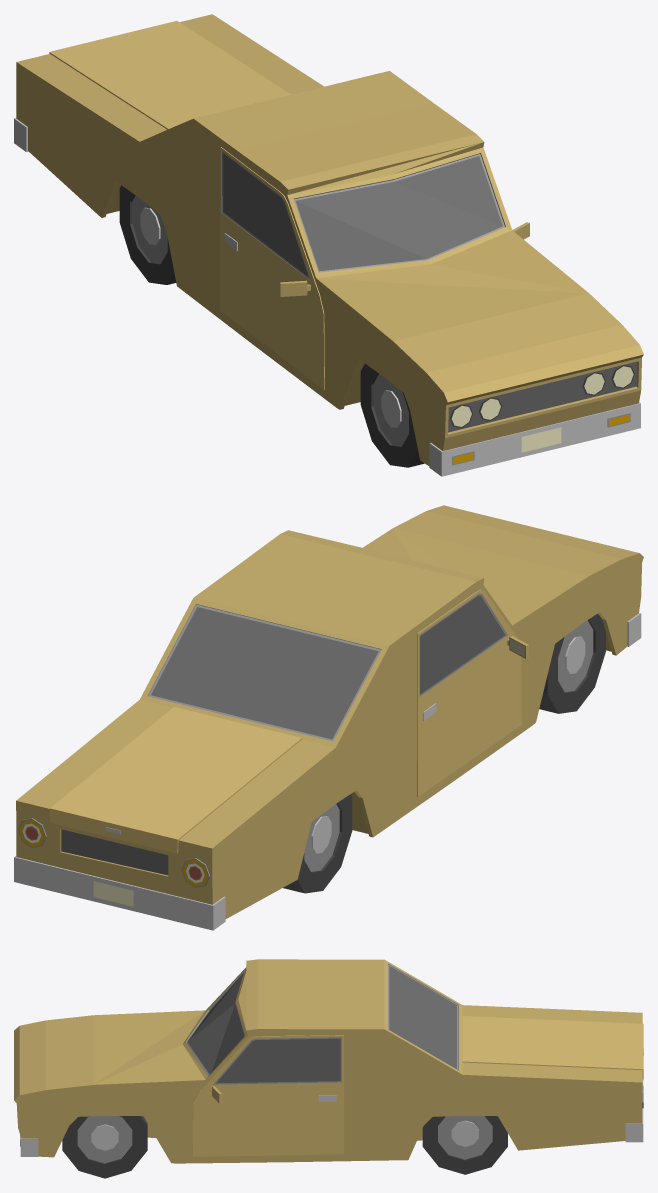
Rendered from vintage car1_1.fbx.
3 renders of one model, top to bottom at view 1: azimuth 30°, elevation 25°; view 2: azimuth 150°, elevation 25°; view 3: azimuth 270°, elevation 25°, orthographic. The views are drawn at different scales.
Parts seen in each view (by area): view 1: gdfg, Cylinder_2_3, Cylinder_2_2; view 2: gdfg, Cylinder_2_3, Cylinder_2_2; view 3: gdfg, Cylinder_2, Cylinder_2_1.
Part boxes in pixels (left/top/right/bottom): gdfg: left=14, top=14, right=643, bottom=476; Cylinder_2_3: left=360, top=363, right=424, bottom=467; Cylinder_2_2: left=119, top=185, right=176, bottom=284; gdfg: left=14, top=505, right=643, bottom=930; Cylinder_2_3: left=539, top=613, right=605, bottom=713; Cylinder_2_2: left=283, top=794, right=352, bottom=893; gdfg: left=14, top=959, right=643, bottom=1163; Cylinder_2: left=62, top=1116, right=147, bottom=1178; Cylinder_2_1: left=422, top=1116, right=507, bottom=1174.
Size of the model in its own units: 169 by 134 by 508.
